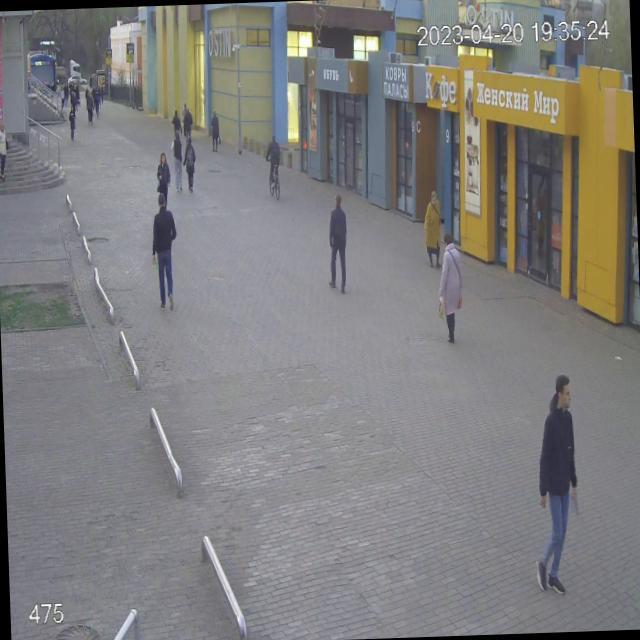person: (530, 372, 582, 594), (152, 193, 178, 307), (438, 233, 464, 346), (327, 194, 348, 293), (422, 188, 443, 267), (183, 136, 197, 194), (171, 132, 184, 194), (158, 151, 172, 203)
